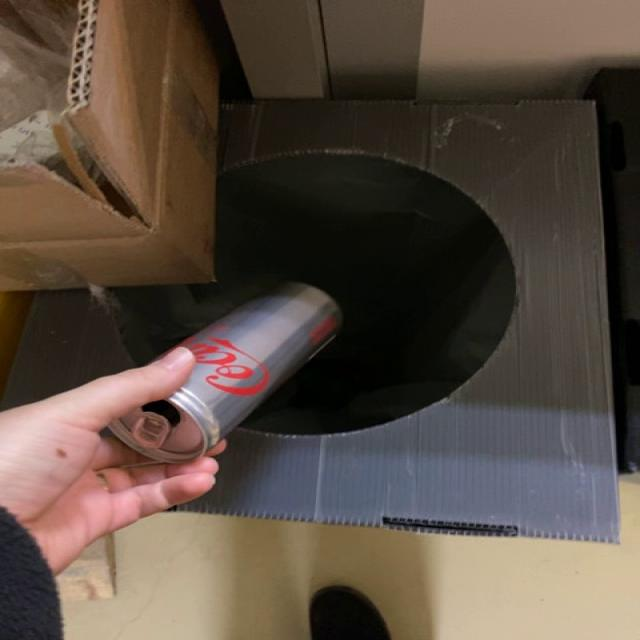bin: (115, 100, 617, 542), (4, 290, 131, 406)
metal: (109, 283, 341, 464)
